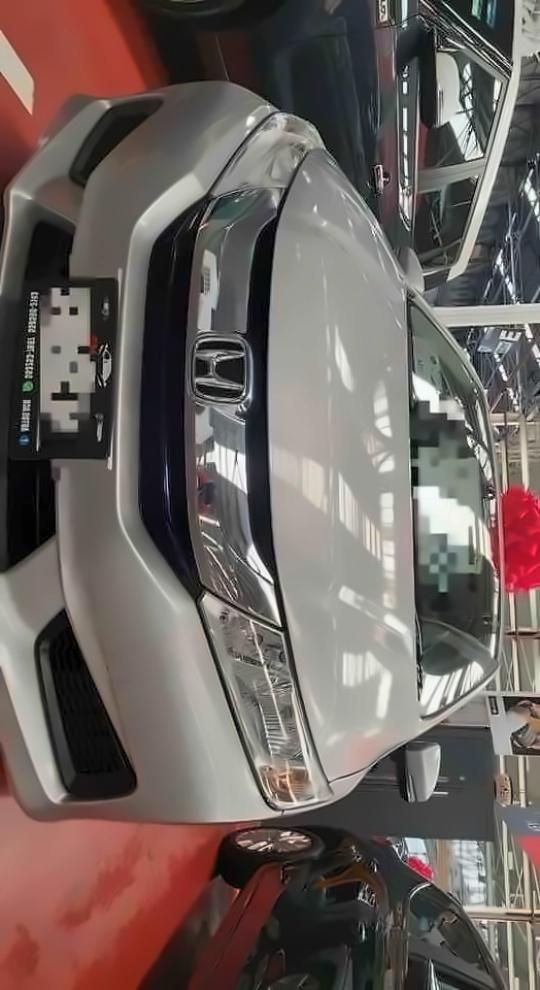Car hood: (254, 134, 431, 813)
Front bumper: (0, 77, 286, 840)
Headlight - -L-: (199, 582, 336, 820)
Headlight - -R-: (209, 110, 334, 203)
Side mirror - -L-: (390, 730, 442, 809)
Side mirror - -R-: (387, 235, 436, 303)
